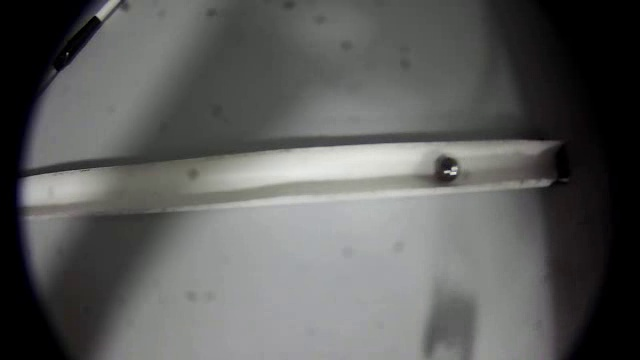gangzhu: (429, 149, 461, 184)
